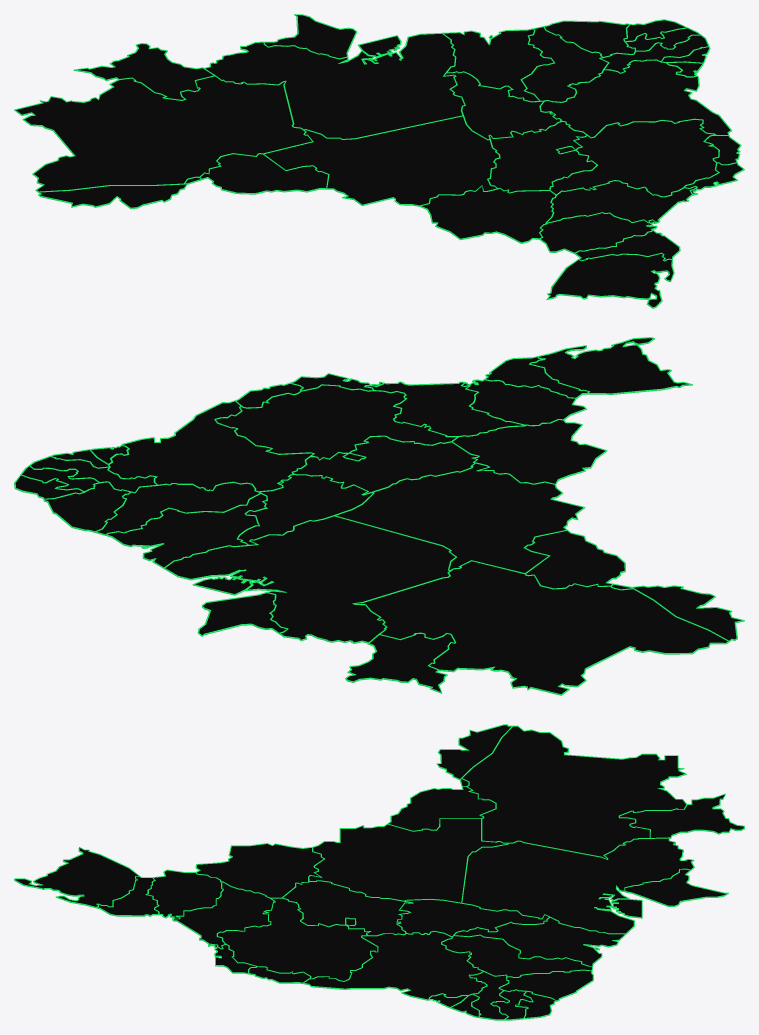
Rendered from BR_Map.glb.
3 views of the same model, one above another, from view 1: azimuth 30°, elevation 25°; view 2: azimuth 150°, elevation 25°; view 3: azimuth 270°, elevation 25° (orthographic). The views are drawn at different scales.
Parts seen in each view (by area): view 1: AM, PA, MT, MG, BA, MS, GO, MA, RS, TO, SP, PI (+21 smaller); view 2: AM, PA, MT, MG, BA, MS, GO, MA, RS, TO, SP, PI (+20 smaller); view 3: AM, PA, MT, MG, BA, MS, GO, MA, RS, TO, SP, PI (+18 smaller).
Boxes of the visible parts, x1,y1,x2,y2 form: AM: (16,76,311,191); PA: (205,34,463,138); MT: (264,116,498,205); MG: (550,120,718,196); BA: (541,60,730,137); MS: (422,186,555,242); GO: (488,122,595,192); MA: (444,29,553,101); RS: (549,254,672,306); TO: (445,72,559,139); SP: (547,181,695,222); PI: (522,27,607,101); AM: (356,561,727,693); PA: (165,516,454,642); MT: (336,463,582,572); MG: (216,385,455,459); BA: (109,401,312,491); MS: (453,420,604,483); GO: (293,436,477,493); MA: (107,494,266,567); RS: (531,338,688,393); TO: (238,475,372,544); SP: (366,382,522,435); PI: (97,483,259,534); AM: (462,726,685,858); PA: (462,838,693,933); MT: (309,819,506,902); MG: (218,898,377,980); BA: (304,931,485,999); MS: (197,844,322,897); GO: (283,881,408,935); MA: (455,918,624,965); RS: (15,848,137,906); TO: (398,899,548,935); SP: (174,882,273,948); PI: (442,935,591,976).
Bounding box in the file's own units: 24.87 × 0.051 × 26.
